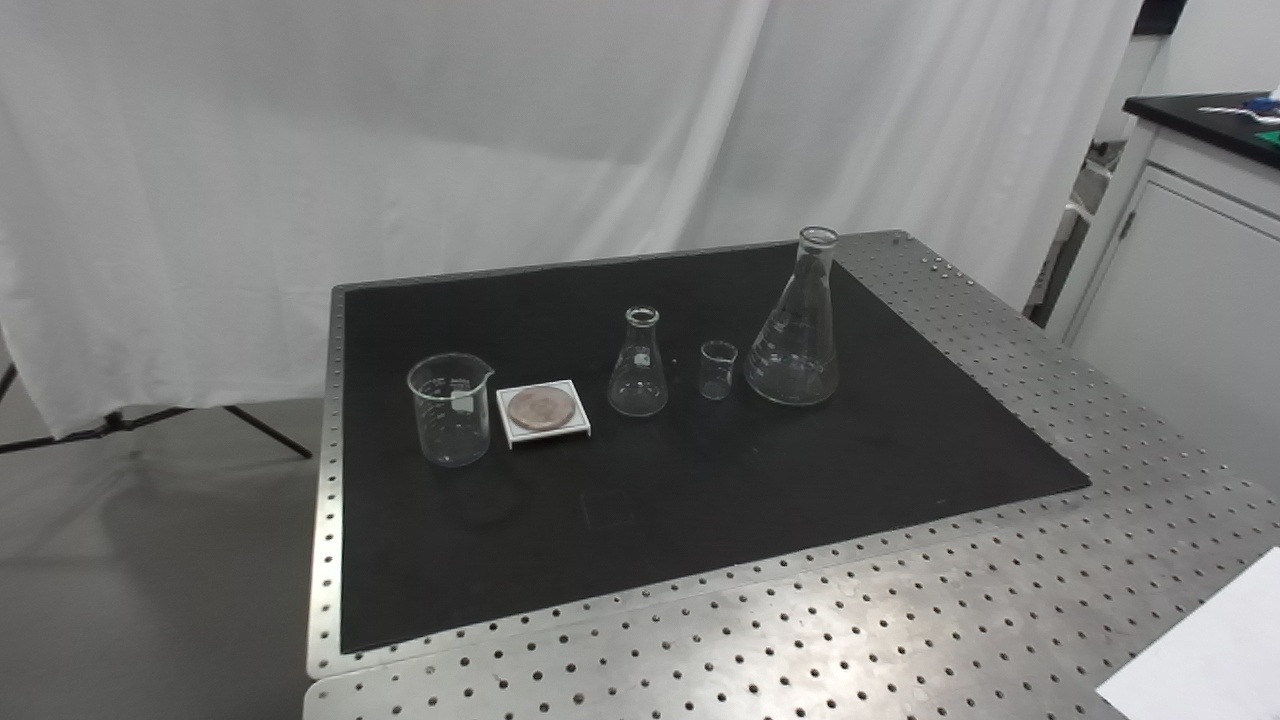glass: (737, 225, 844, 411), (404, 349, 497, 473), (603, 306, 673, 423), (697, 337, 739, 404)
plate: (489, 377, 595, 452)
